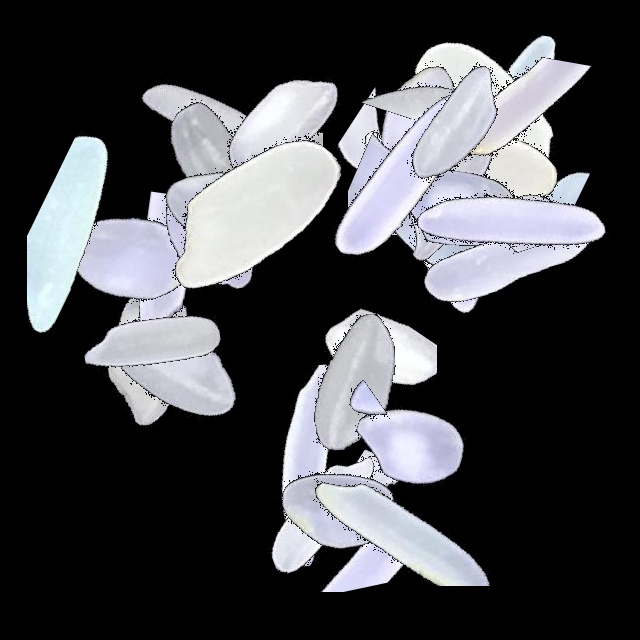Broken: (78, 153, 246, 403), (285, 418, 535, 586), (390, 53, 640, 215), (278, 262, 437, 512), (27, 128, 177, 378), (410, 19, 553, 269), (348, 80, 488, 330), (341, 114, 476, 364), (398, 131, 532, 381), (376, 137, 626, 270), (471, 52, 602, 302), (292, 75, 542, 201), (380, 62, 499, 312), (296, 1, 546, 119), (212, 477, 462, 592), (270, 448, 520, 555), (223, 50, 323, 300), (35, 251, 285, 335), (16, 267, 266, 350), (21, 231, 271, 313), (284, 180, 534, 258), (325, 325, 403, 575)
Full: (368, 0, 618, 250), (88, 0, 338, 250), (23, 227, 273, 477), (50, 245, 300, 495), (335, 37, 585, 287), (363, 4, 613, 254), (299, 94, 549, 344), (185, 339, 435, 589), (295, 0, 545, 250), (90, 30, 340, 280), (14, 131, 264, 381), (85, 108, 335, 358), (97, 92, 347, 342), (230, 258, 480, 508), (317, 98, 567, 348), (345, 47, 595, 297), (282, 321, 532, 571), (200, 390, 450, 640), (323, 68, 573, 318), (331, 81, 581, 331), (25, 215, 275, 465), (210, 382, 460, 632), (388, 136, 638, 386), (157, 0, 407, 250), (124, 90, 374, 340), (278, 54, 528, 304), (336, 0, 586, 250), (385, 99, 635, 349)
